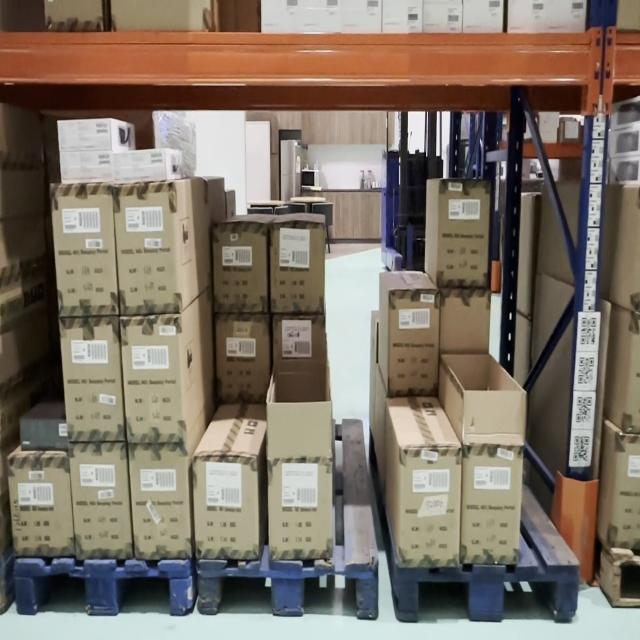box: (121, 182, 174, 312), (60, 184, 111, 316), (194, 458, 258, 561), (127, 319, 180, 443), (463, 444, 518, 563), (402, 450, 458, 566), (269, 460, 331, 559), (76, 446, 130, 555), (69, 318, 117, 439), (136, 448, 188, 557), (437, 180, 486, 285), (15, 456, 66, 555), (391, 290, 437, 394), (215, 313, 267, 400), (215, 226, 266, 308), (273, 225, 322, 309), (63, 151, 112, 181), (60, 121, 111, 149), (114, 156, 164, 179)
